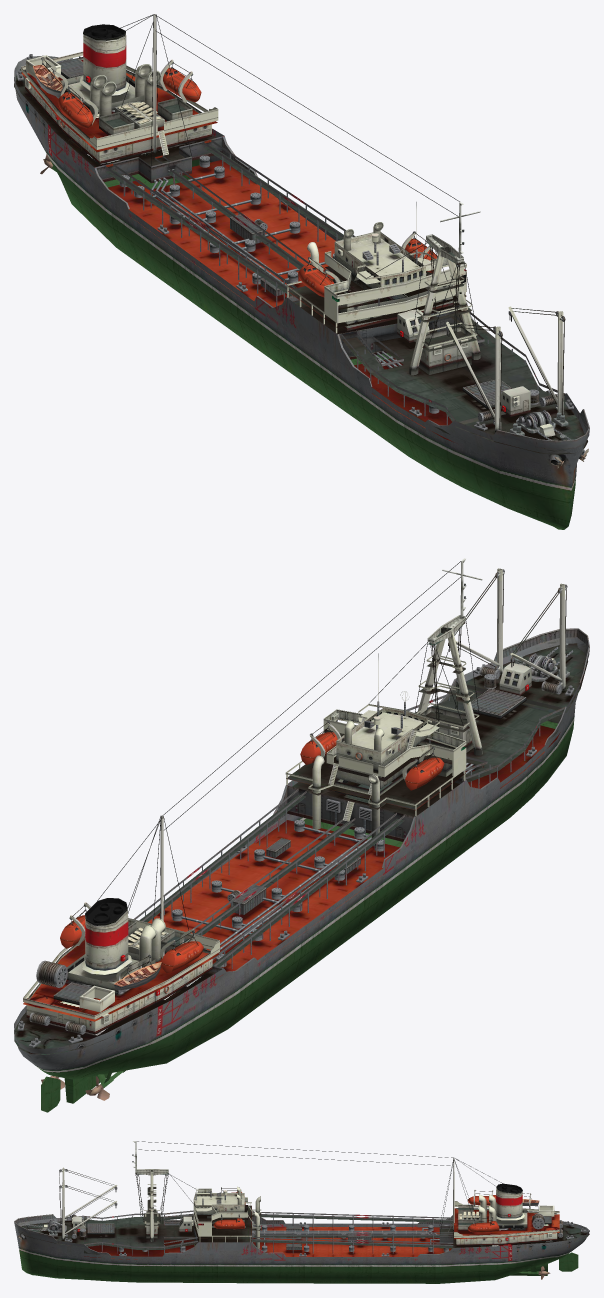
The model's file is 工程船.obj.
3 views of the same model, one above another, from view 1: azimuth 30°, elevation 25°; view 2: azimuth 150°, elevation 25°; view 3: azimuth 270°, elevation 25° (orthographic). The views are drawn at different scales.
Visible parts, largest first — view 1: wp_vt_kazbek, wp_vt_kazbek_deck, wp_vt_kazbek_parts; view 2: wp_vt_kazbek, wp_vt_kazbek_deck, wp_vt_kazbek_parts; view 3: wp_vt_kazbek, wp_vt_kazbek_deck, wp_vt_kazbek_parts, wp_vt_kazbek_rudder.
Part boxes in pixels (left/top/right/bottom): wp_vt_kazbek: left=14, top=14, right=589, bottom=529; wp_vt_kazbek_deck: left=14, top=60, right=587, bottom=454; wp_vt_kazbek_parts: left=16, top=54, right=588, bottom=468; wp_vt_kazbek: left=14, top=558, right=589, bottom=1103; wp_vt_kazbek_deck: left=14, top=622, right=587, bottom=1054; wp_vt_kazbek_parts: left=17, top=569, right=574, bottom=1047; wp_vt_kazbek: left=14, top=1141, right=589, bottom=1283; wp_vt_kazbek_deck: left=19, top=1173, right=589, bottom=1259; wp_vt_kazbek_parts: left=18, top=1169, right=588, bottom=1256; wp_vt_kazbek_rudder: left=559, top=1252, right=578, bottom=1271.
Bounding box in the file's own units: 4138 × 7751 × 30189.
